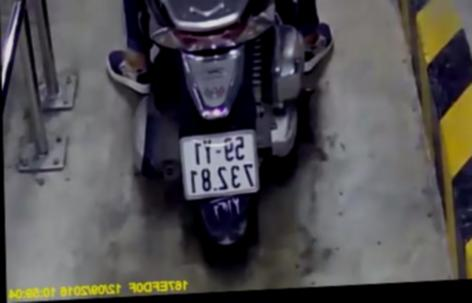License_Plate: (170, 123, 269, 204)
